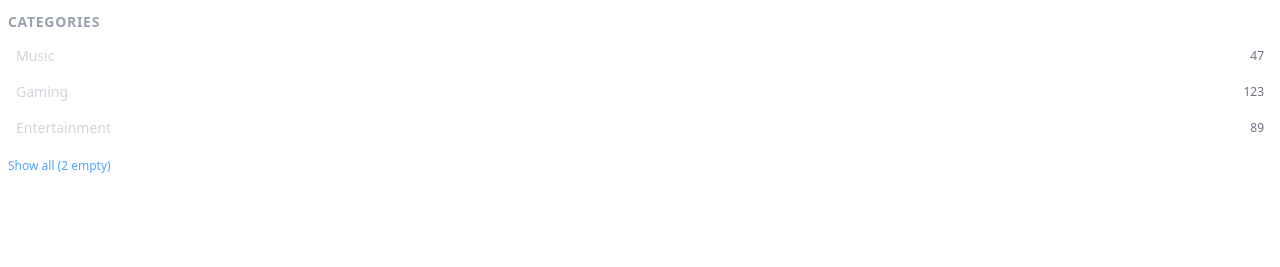
Test: SidebarCategories › Zero-Video Category Handling (T079, FR-033) › should show hidden categories when toggle is clicked
Check: the text "People & Blogs" is not shown
Click toggle
Click the button with aria-label "Show 2 empty categories" at (59, 166), box [8,158,111,174]
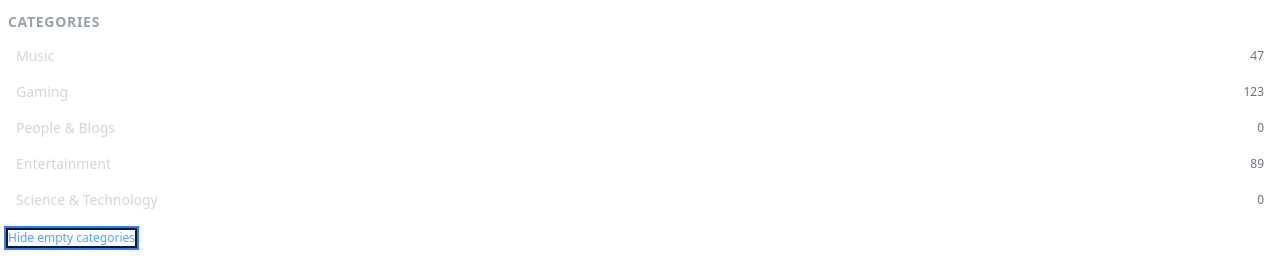
Check: the text "People & Blogs" is shown, box [16,118,115,138]
Check: the text "Science & Technology" is shown, box [16,190,158,210]
